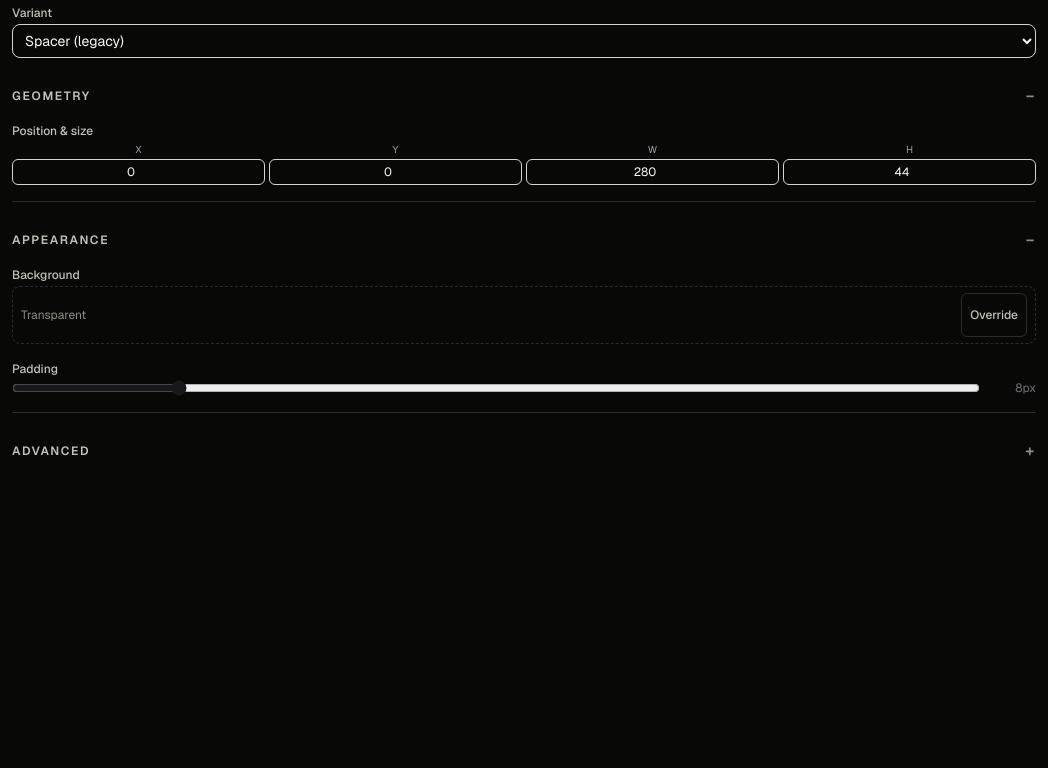
Test: BlockInspector spacer controls › marks an existing spacer as legacy and allows conversion to Text
Expected: the text "Background" is shown, [12,267,80,283]
Expected: the text "Padding" is shown, [12,361,58,377]
What coordinates should you click on to do the following:
click the button "Advanced +"
I would click on:
 (51, 451)
Its box is [12,429,1036,473].
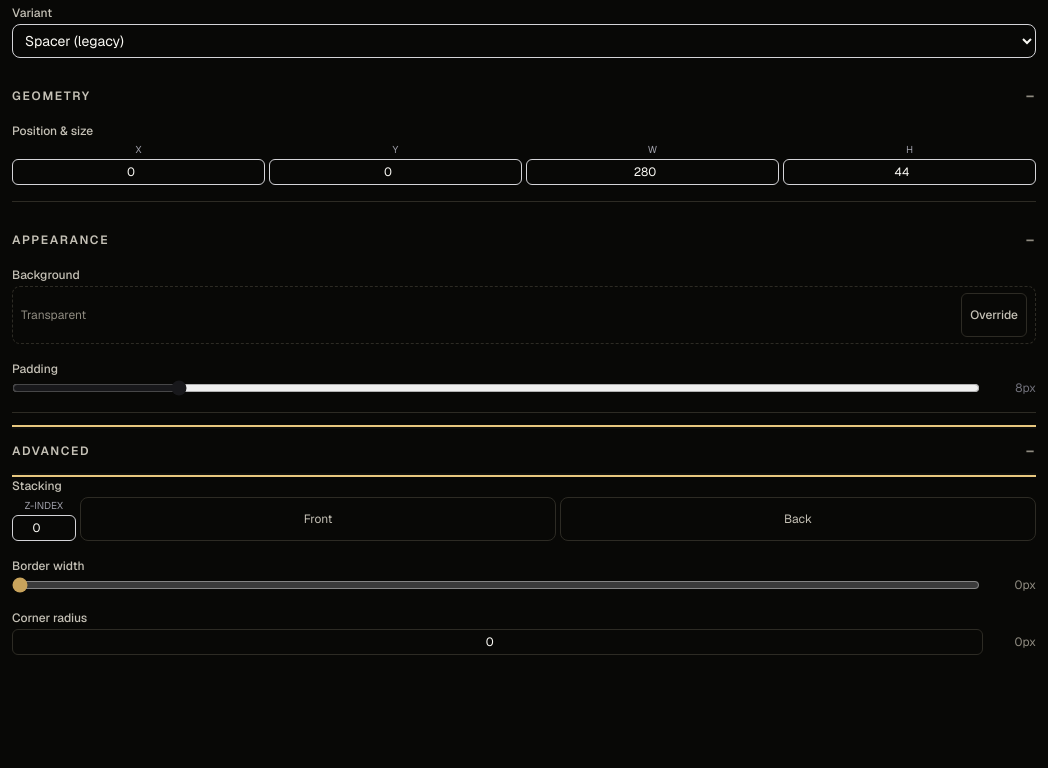
Now the text "Border width" is shown, box [12,558,84,574]
Now the text "Corner radius" is shown, box [12,610,87,626]
